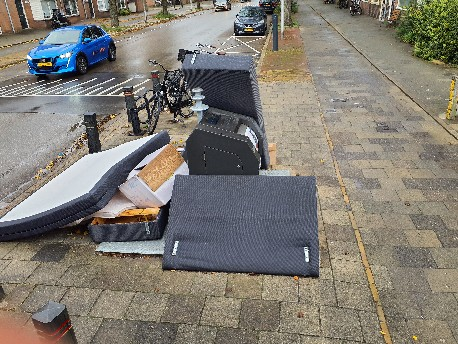Container: (192, 123, 275, 177)
Rest: (47, 151, 184, 265), (178, 171, 331, 267), (190, 53, 270, 110)
Voertuig: (31, 24, 114, 83), (236, 8, 282, 44)
